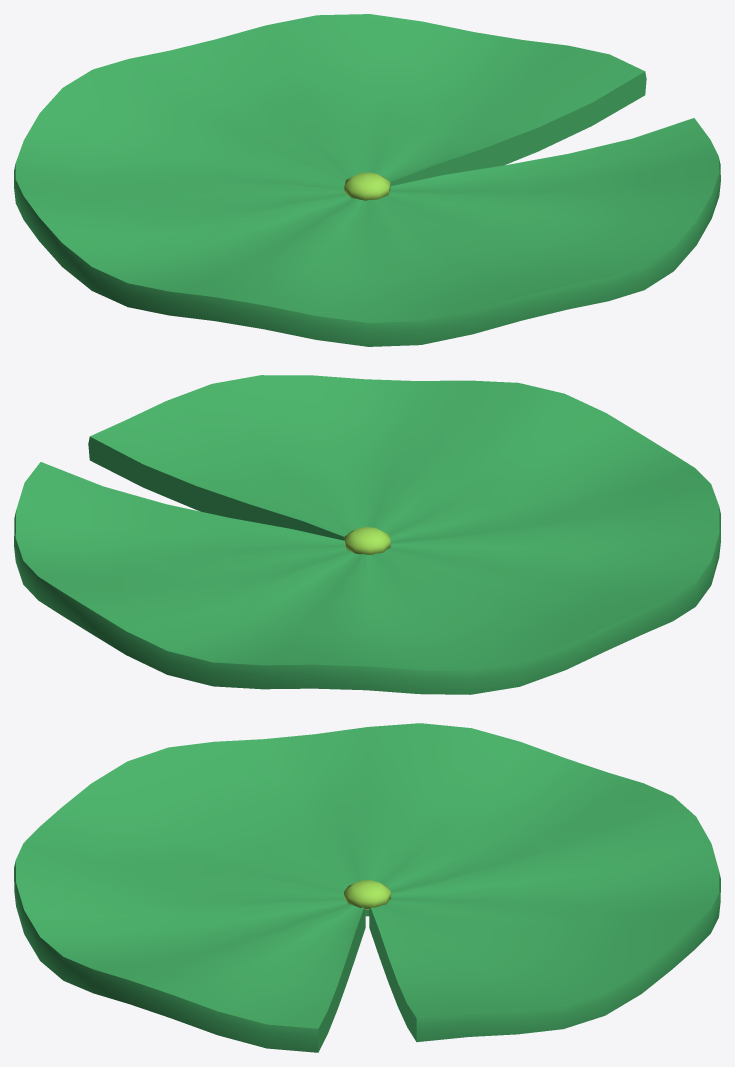
File: lotus_pad.glb
3 renders of one model, top to bottom at view 1: azimuth 30°, elevation 25°; view 2: azimuth 150°, elevation 25°; view 3: azimuth 270°, elevation 25°, orthographic.
Visible parts, largest first — view 1: lotus_pad; view 2: lotus_pad; view 3: lotus_pad.
Boxes of the visible parts, left/top/right/bottom form: lotus_pad: left=14, top=14, right=720, bottom=346; lotus_pad: left=14, top=375, right=720, bottom=694; lotus_pad: left=14, top=723, right=720, bottom=1052.
Bounding box in the file's own units: 2 × 0.1629 × 2.01.
